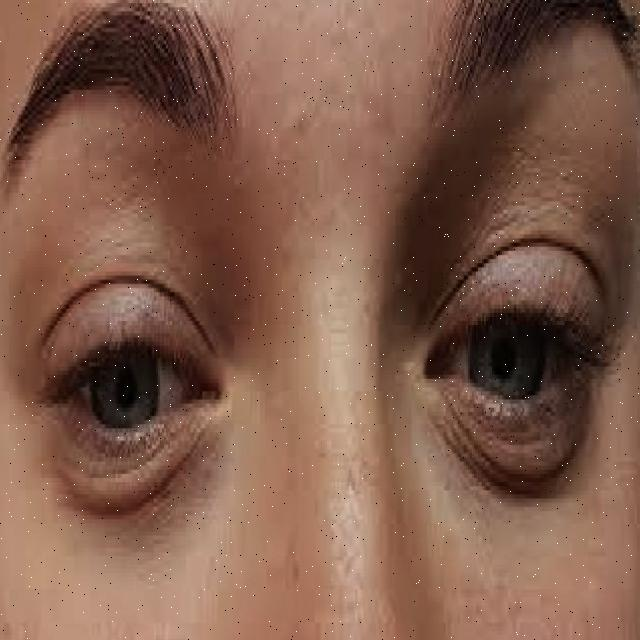puffy_eyes: (42, 424, 233, 537), (431, 410, 616, 524)
